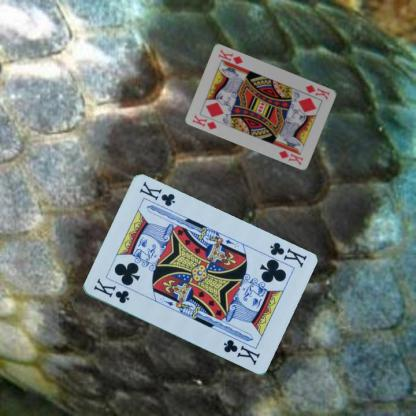Kc: (90, 276, 130, 305), (267, 240, 307, 269)
Kd: (303, 82, 331, 101), (190, 112, 218, 130)
